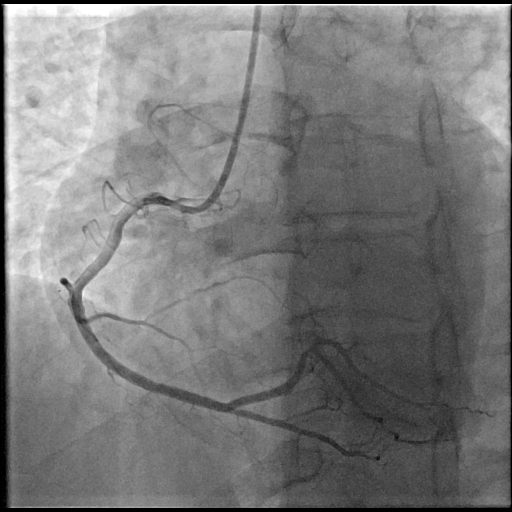RCA: (60, 193, 366, 456)
catherter: (195, 6, 261, 212)
